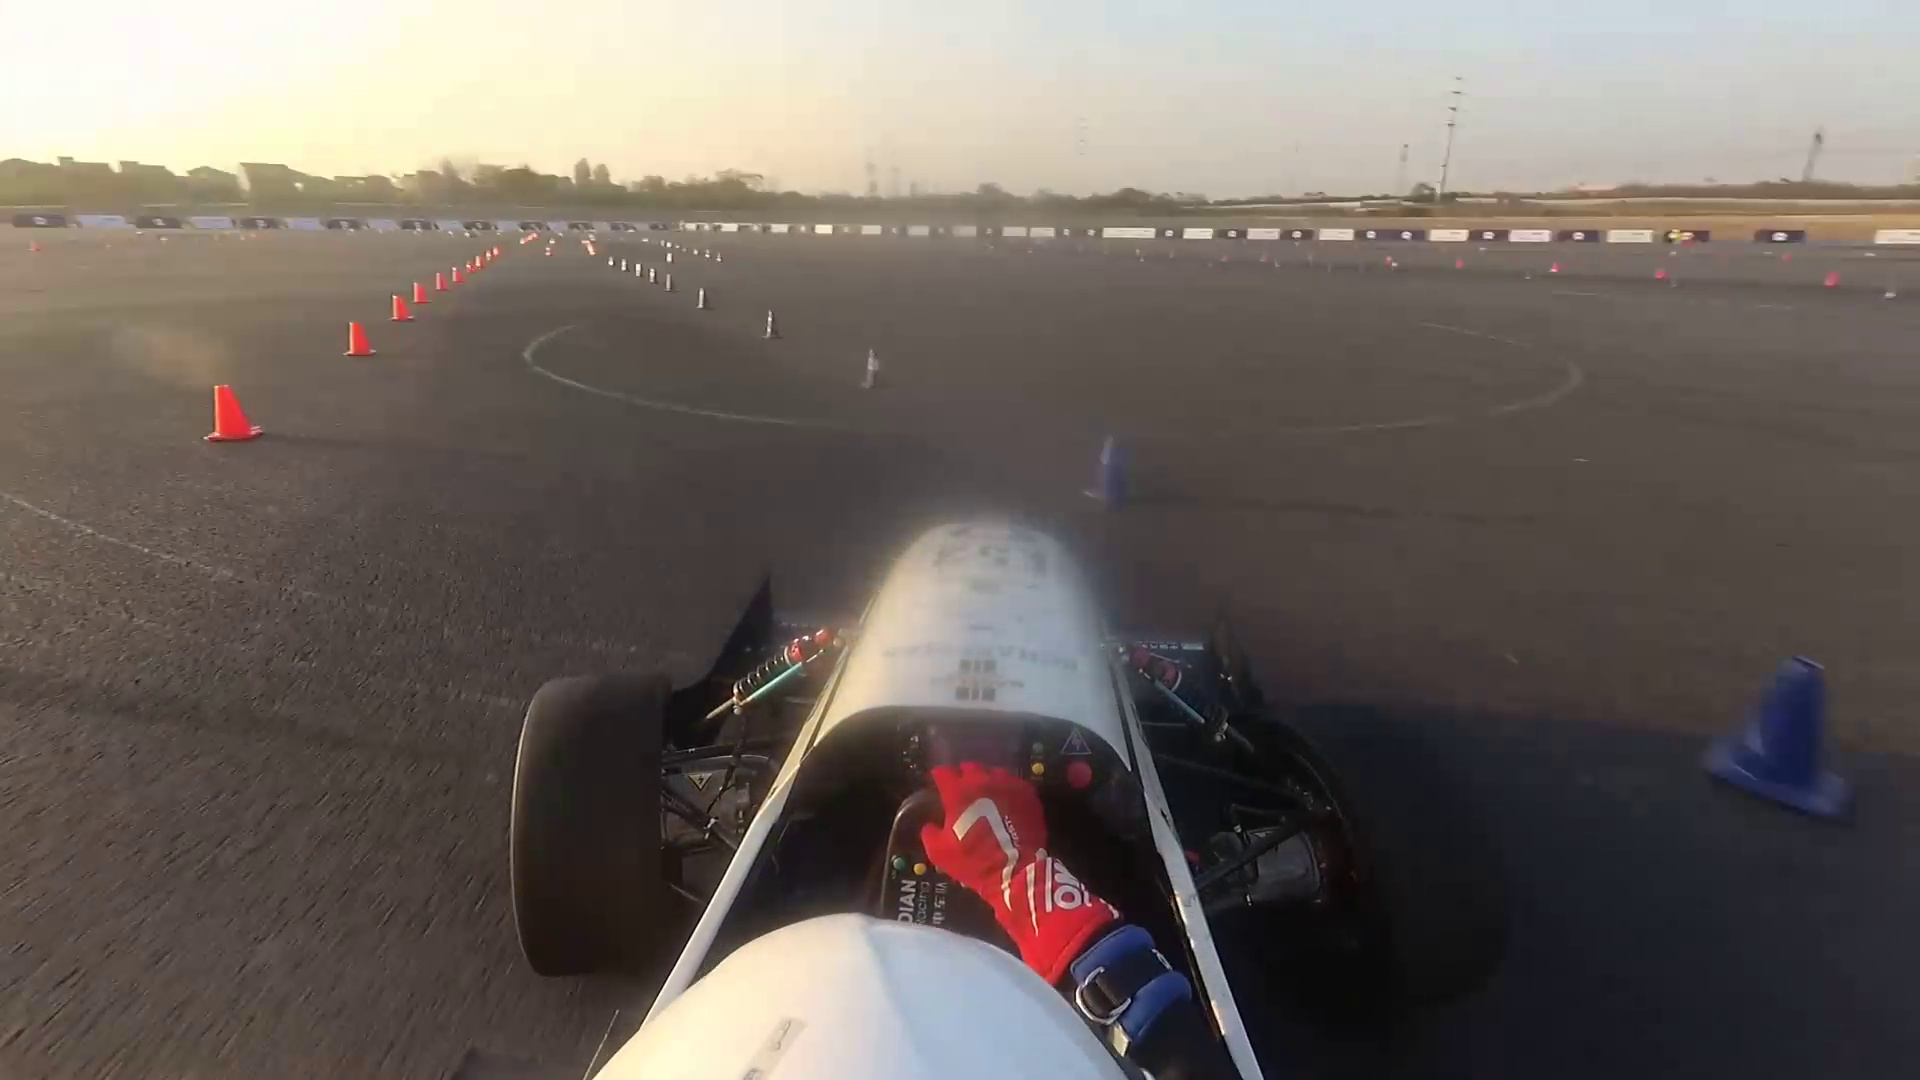blue_cone: (1714, 651, 1840, 820), (1079, 434, 1131, 502)
